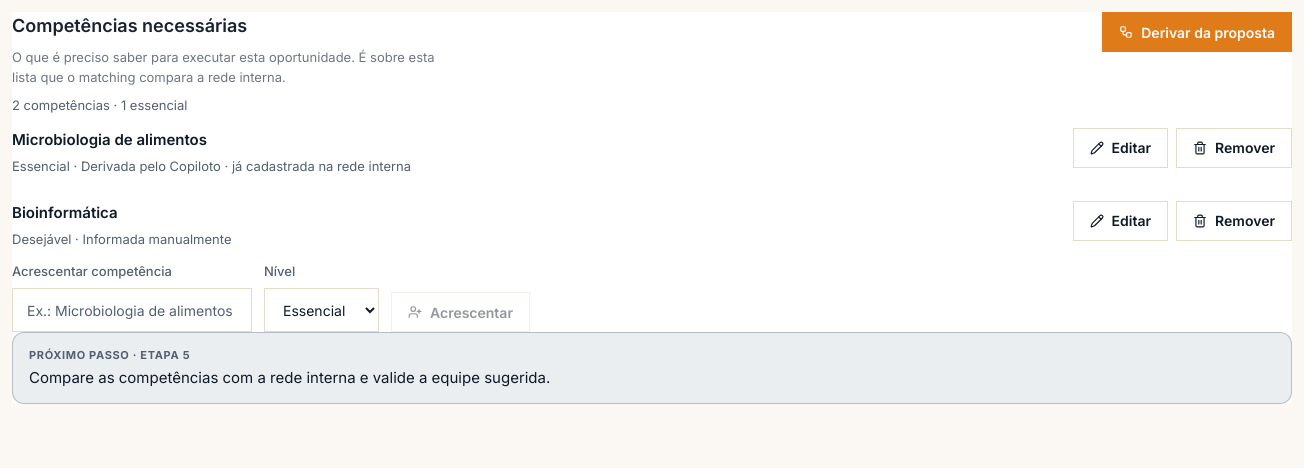
Test: AbaCompetencias › avisa quando o provedor está indisponível em vez de inventar lista
Click the button "Derivar da proposta": (1197,32) [1102,12,1292,52]
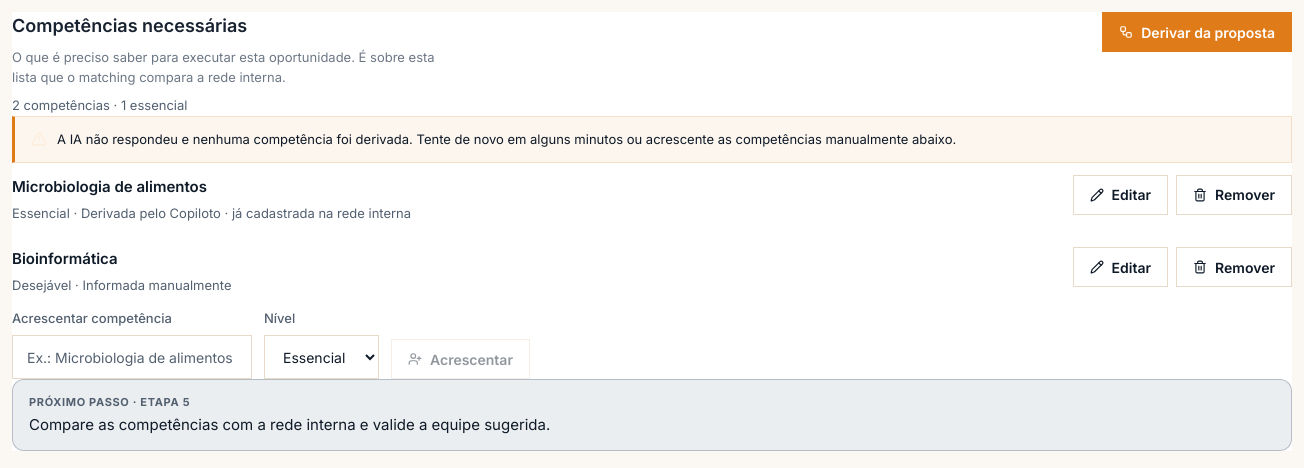
expect the text "nenhuma competência foi derivada" is shown: met, box [57,131,956,147]
